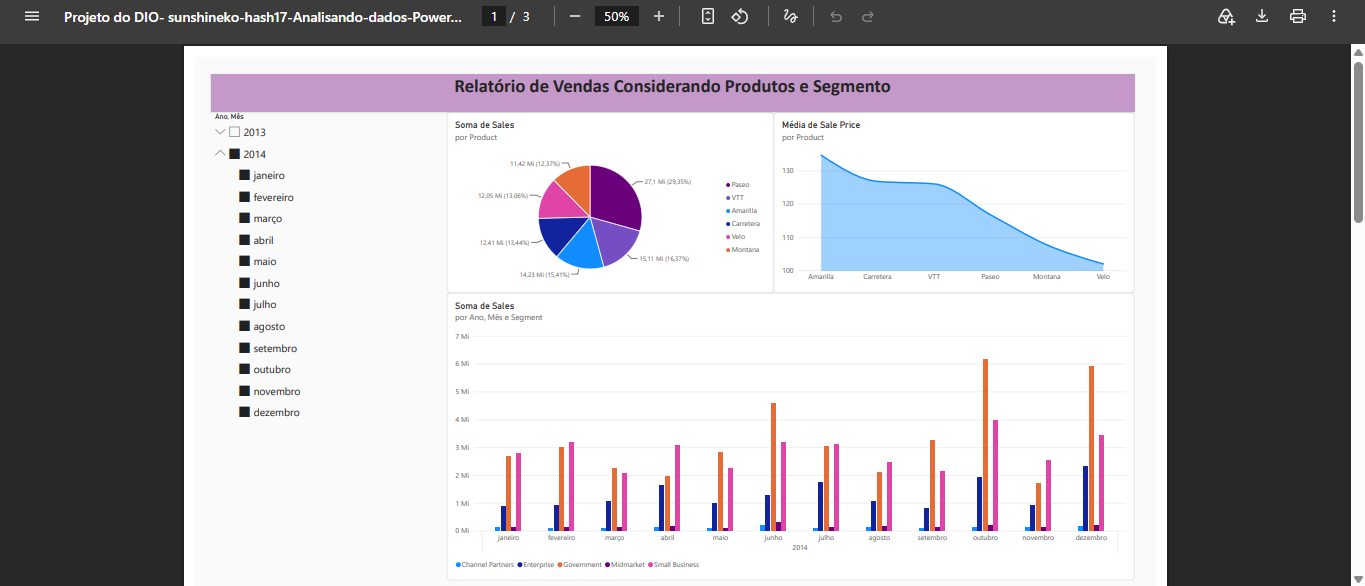

The dashboard page shown, as its layout file describes it:
{"tool":"powerbi","page":{"name":"Relatório de Vendas Considerando Produtos e Segmento","canvas":[1920,1080],"ordinal":0},"visuals":[{"type":"pieChart","fields":{"Category":["financials.Product"],"Y":["Sum(financials. Sales)"]},"box":[503.3,110.2,652.3,360.7],"z":0},{"type":"areaChart","fields":{"Category":["financials.Product"],"Y":["Avg(financials.Sale Price)"]},"box":[1155.6,110.2,721.4,360.7],"z":1000},{"type":"clusteredColumnChart","fields":{"Category":["financials.Date.Variation.Hierarquia de datas.Ano","financials.Date.Variation.Hierarquia de datas.Mês"],"Series":["financials.Segment"],"Y":["Sum(financials. Sales)"]},"box":[503.3,470.9,1373.8,574.6],"z":2000},{"type":"slicer","fields":{"Values":["financials.Date.Variation.Hierarquia de datas.Ano","financials.Date.Variation.Hierarquia de datas.Mês"]},"box":[32.4,110.2,455.8,935.3],"z":3000},{"type":"textbox","box":[32,34,1844.6,75],"z":4000}]}

Visuals, with their boxes on the page's 1920x1080 design canvas (x1, y1, x2, y2). These are canvas units, not pixel positions in the 1365x586 screenshot, which may show the page scaled, cropped or inside an application window:
pieChart - financials.Product x Sum(financials. Sales): left=503, top=110, right=1156, bottom=471
areaChart - financials.Product x Avg(financials.Sale Price): left=1156, top=110, right=1877, bottom=471
clusteredColumnChart - financials.Date.Variation.Hierarquia de datas.Ano x financials.Date.Variation.Hierarquia de datas.Mês: left=503, top=471, right=1877, bottom=1046
slicer - financials.Date.Variation.Hierarquia de datas.Ano x financials.Date.Variation.Hierarquia de datas.Mês: left=32, top=110, right=488, bottom=1046
textbox: left=32, top=34, right=1877, bottom=109
